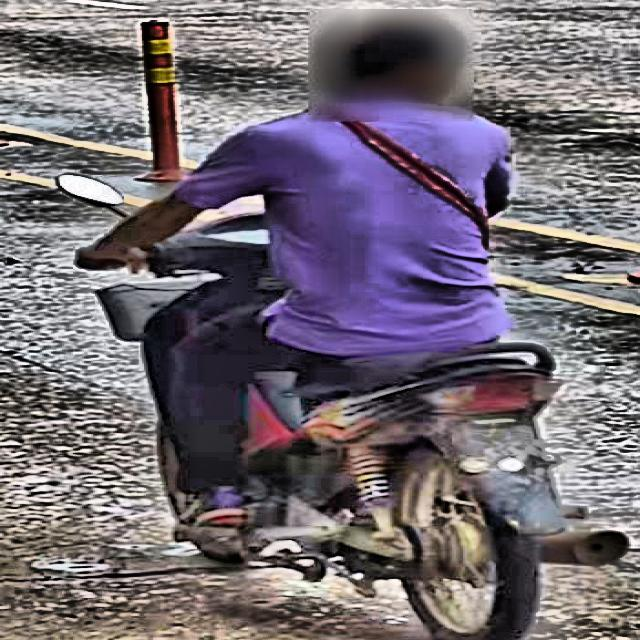motorcycle: (47, 163, 640, 640)
